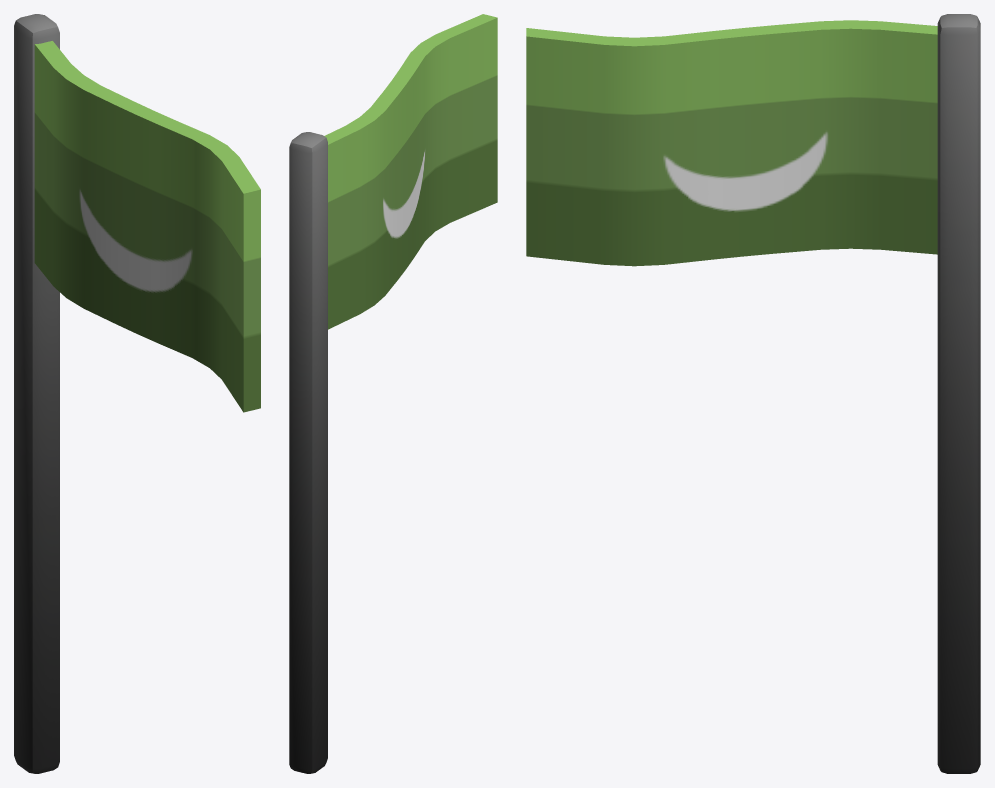
The model's file is Flagpole01.fbx.
3 views of the same model, side by side, from view 1: azimuth 30°, elevation 25°; view 2: azimuth 150°, elevation 25°; view 3: azimuth 270°, elevation 25° (orthographic). The views are drawn at different scales.
Visible parts, largest first — view 1: Flagpole01; view 2: Flagpole01; view 3: Flagpole01.
Boxes of the visible parts, x1,y1,x2,y2 form: Flagpole01: (14, 14, 260, 773); Flagpole01: (289, 14, 497, 773); Flagpole01: (526, 14, 980, 773).
Size of the model in its own units: 0.5311 by 3.91 by 7.14.
